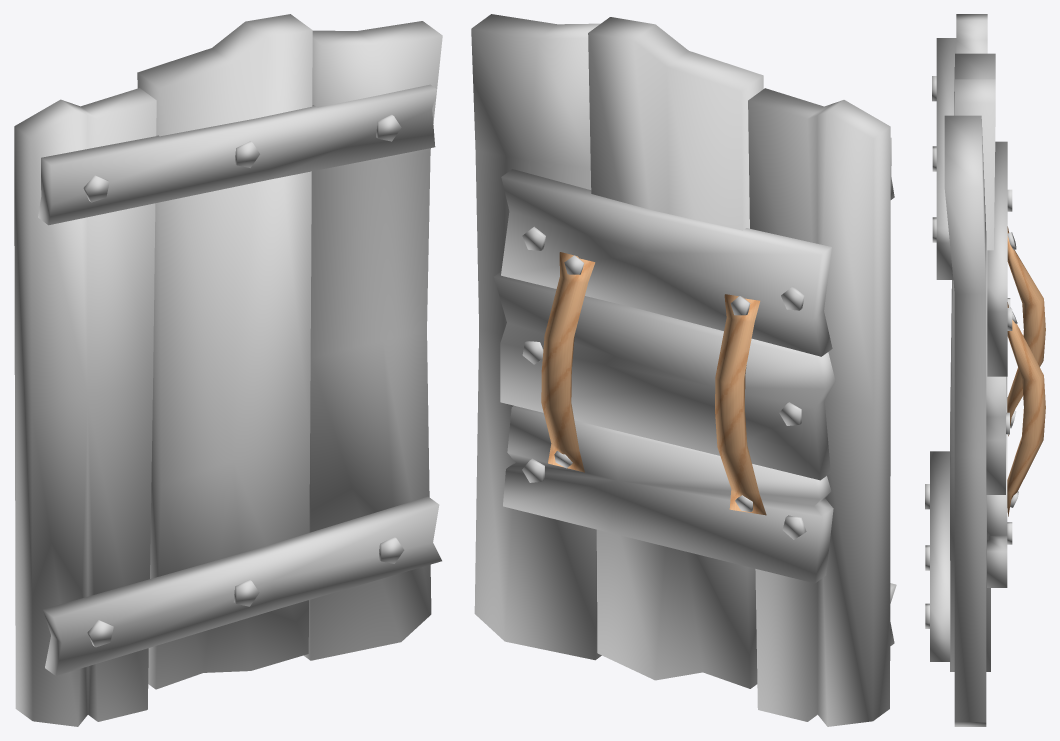
File: GoblinShield_Weapon.fbx
3 renders of one model, left to right at view 1: azimuth 30°, elevation 25°; view 2: azimuth 150°, elevation 25°; view 3: azimuth 270°, elevation 25°, orthographic. The views are drawn at different scales.
Parts seen in each view (by area): view 1: plank_2_low; view 2: plank_2_low; view 3: plank_2_low.
Part boxes in pixels (box(x1,y1,x2,y2)): plank_2_low: box(14, 14, 442, 726); plank_2_low: box(471, 14, 896, 726); plank_2_low: box(925, 14, 1045, 726).
Size of the model in its own units: 60.1 by 91.15 by 16.83.
